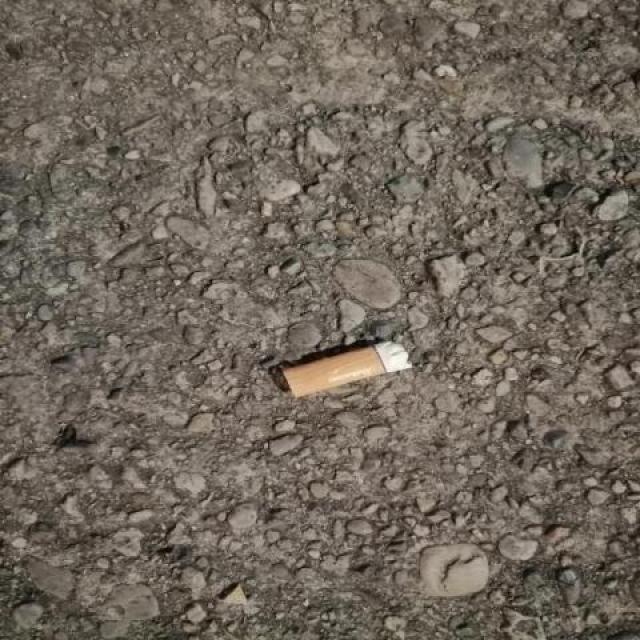non-organic waste: (278, 327, 418, 404)
